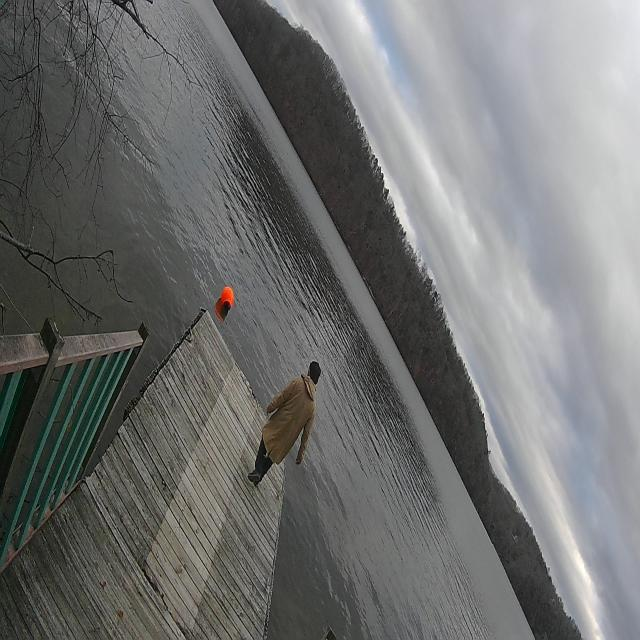Buoy: (218, 282, 236, 316)
